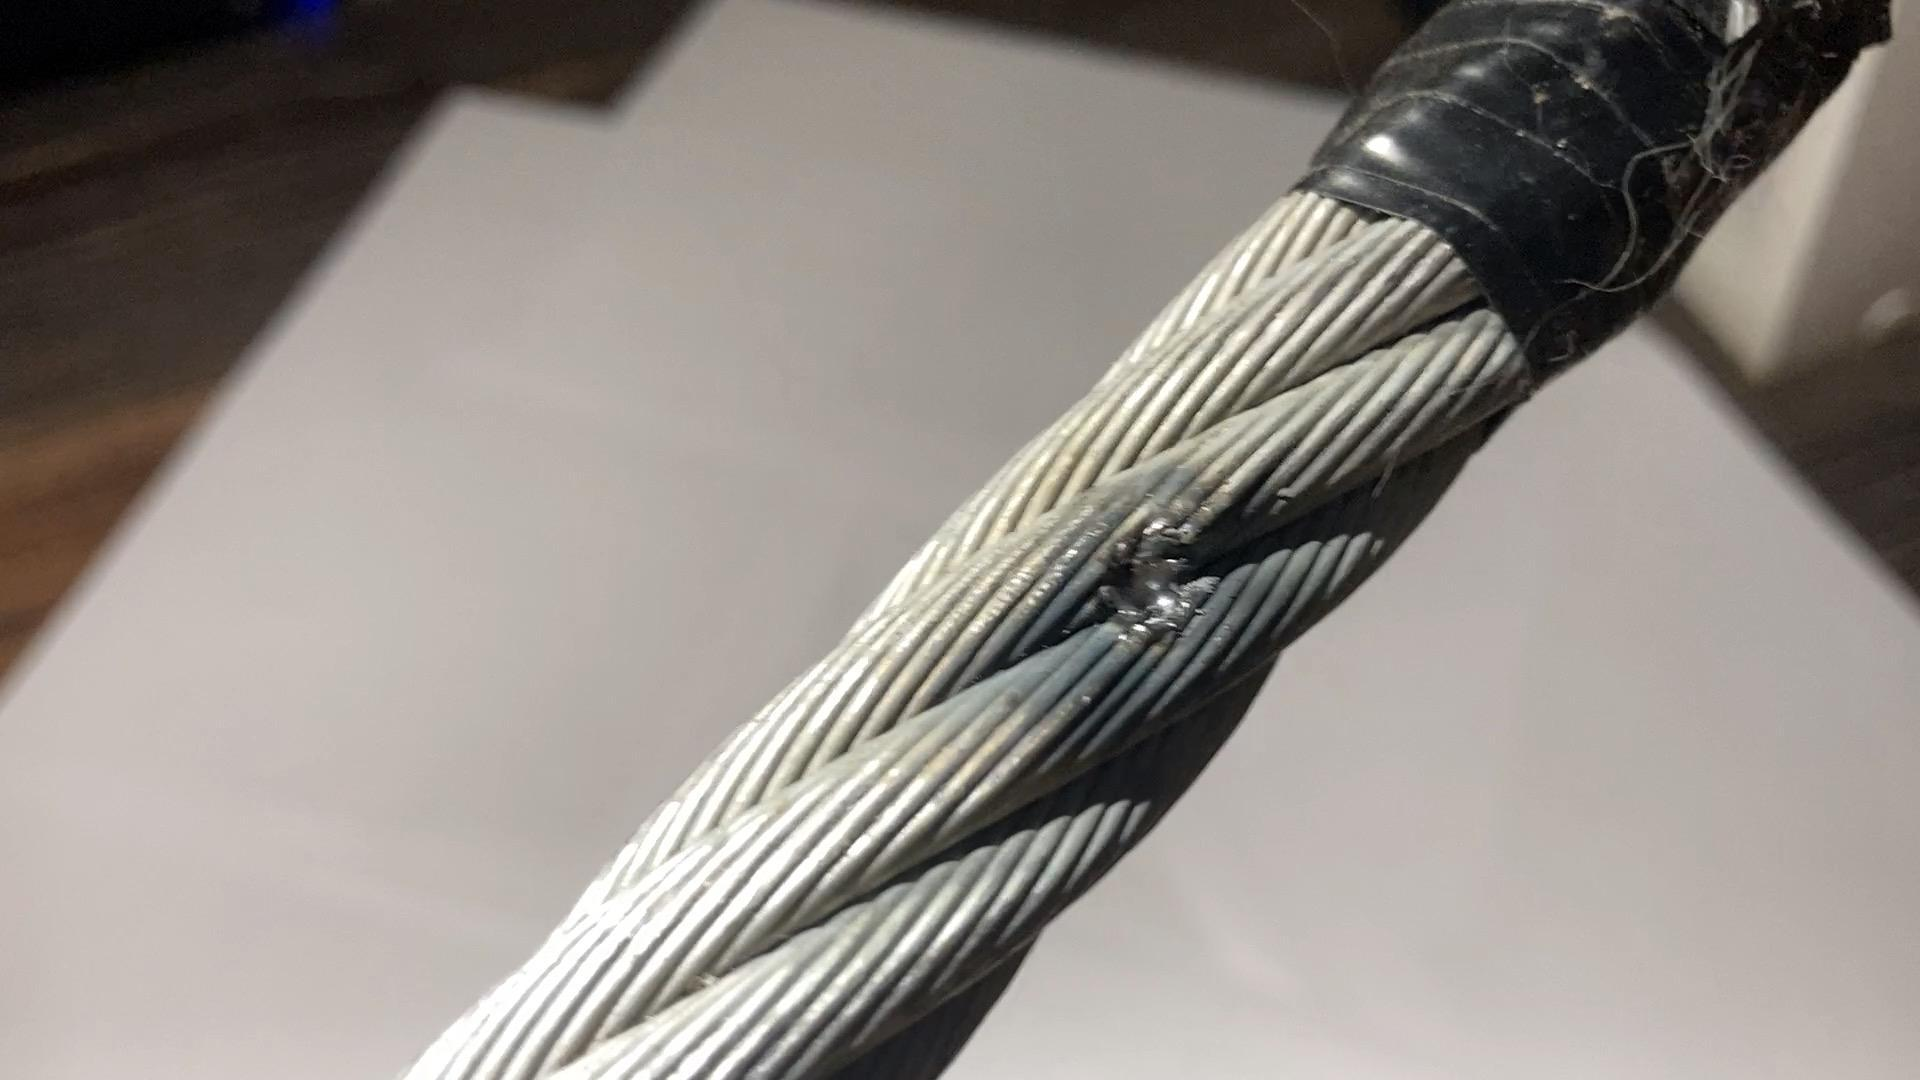thunderbolt: (1088, 487, 1234, 654)
